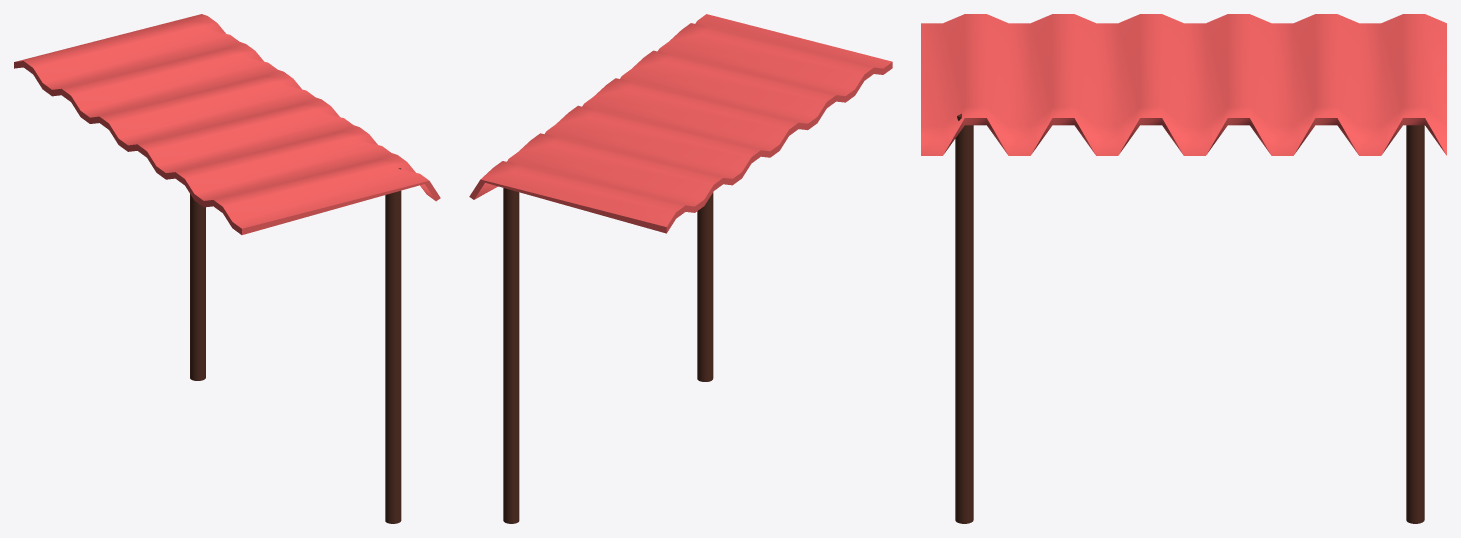
File: doorway sunprotection.fbx
The picture shows the model from 3 angles, left to right: view 1: azimuth 30°, elevation 25°; view 2: azimuth 150°, elevation 25°; view 3: azimuth 270°, elevation 25°; orthographic projection. The views are drawn at different scales.
Visible parts, largest first — view 1: thingy, stick1, stick; view 2: thingy, stick, stick1; view 3: thingy, stick, stick1.
Boxes of the visible parts, bbox=[...] form: thingy: bbox=[14, 14, 440, 234]; stick1: bbox=[385, 168, 401, 523]; stick: bbox=[190, 194, 205, 380]; thingy: bbox=[469, 14, 892, 233]; stick: bbox=[503, 188, 519, 523]; stick1: bbox=[697, 192, 713, 381]; thingy: bbox=[921, 14, 1446, 155]; stick: bbox=[1406, 125, 1424, 523]; stick1: bbox=[955, 113, 973, 523].
Bounding box in the file's own units: 54.25 × 92.52 × 108.
